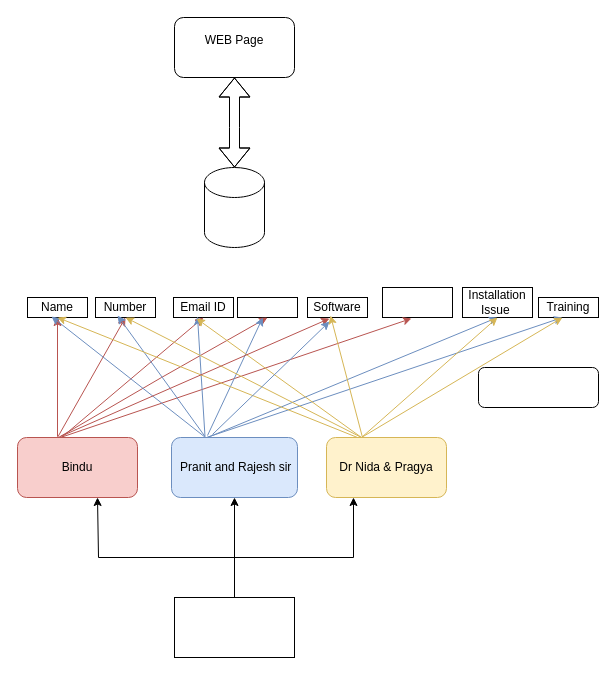
The diagram is 616 pixels wide and 675 high, and some of its shapes have lost their labels. The shapes that lost their labels are listed below. From the top down, each one's box as (x1, y1, x2, y2) in pixels, then its label:
(204, 166, 264, 248): DB Sql Lite
(236, 296, 298, 318): Add
(382, 286, 452, 318): Dispatch ID
(478, 366, 598, 408): CRUD cmd
(174, 596, 294, 658): Admin
